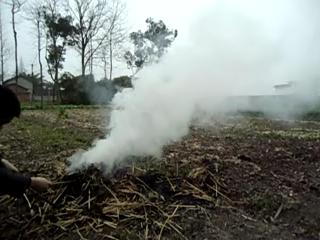yanwu: (78, 19, 264, 166)
